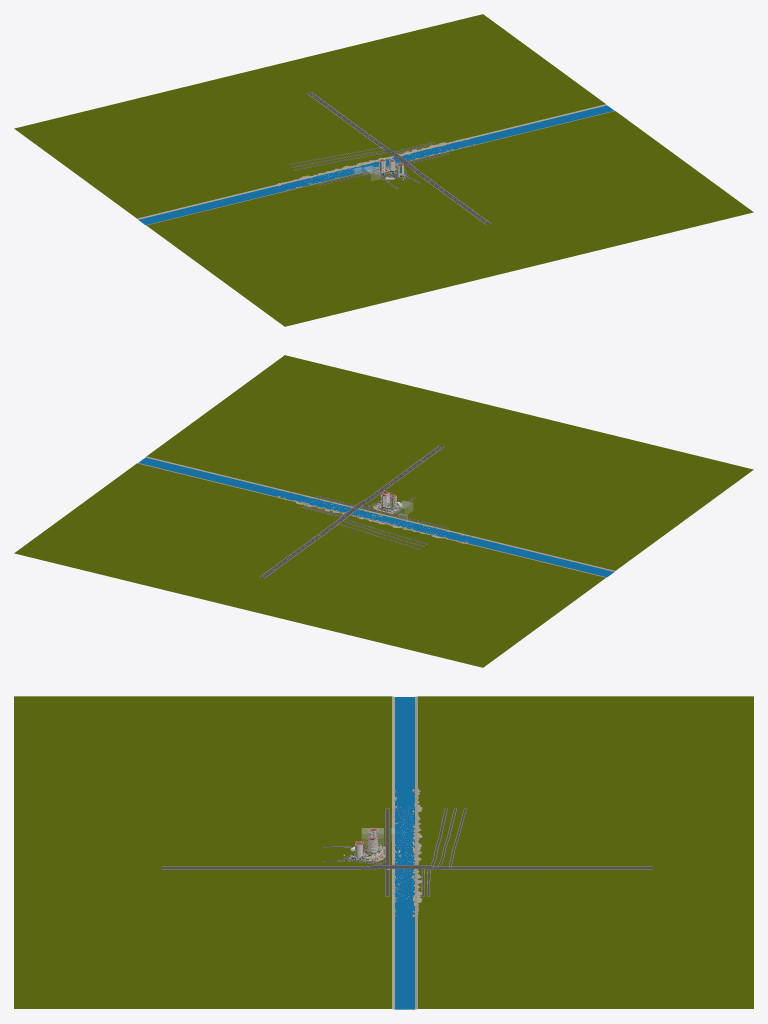
The model's file is shahrofar.glb.
3 renders of one model, top to bottom at view 1: azimuth 30°, elevation 25°; view 2: azimuth 150°, elevation 25°; view 3: azimuth 270°, elevation 25°, orthographic. The views are drawn at different scales.
Parts seen in each view (by area): view 1: Site ground, Avenue and bridge; view 2: Site ground, Avenue and bridge; view 3: Site ground, Avenue and bridge.
Boxes of the visible parts, left/top/right/bottom form: Site ground: left=14, top=14, right=753, bottom=326; Avenue and bridge: left=307, top=92, right=490, bottom=224; Site ground: left=14, top=355, right=753, bottom=667; Avenue and bridge: left=260, top=445, right=443, bottom=578; Site ground: left=14, top=696, right=753, bottom=1009; Avenue and bridge: left=162, top=863, right=652, bottom=869.
Size of the model in its own units: 3000 by 92.19 by 3000.
